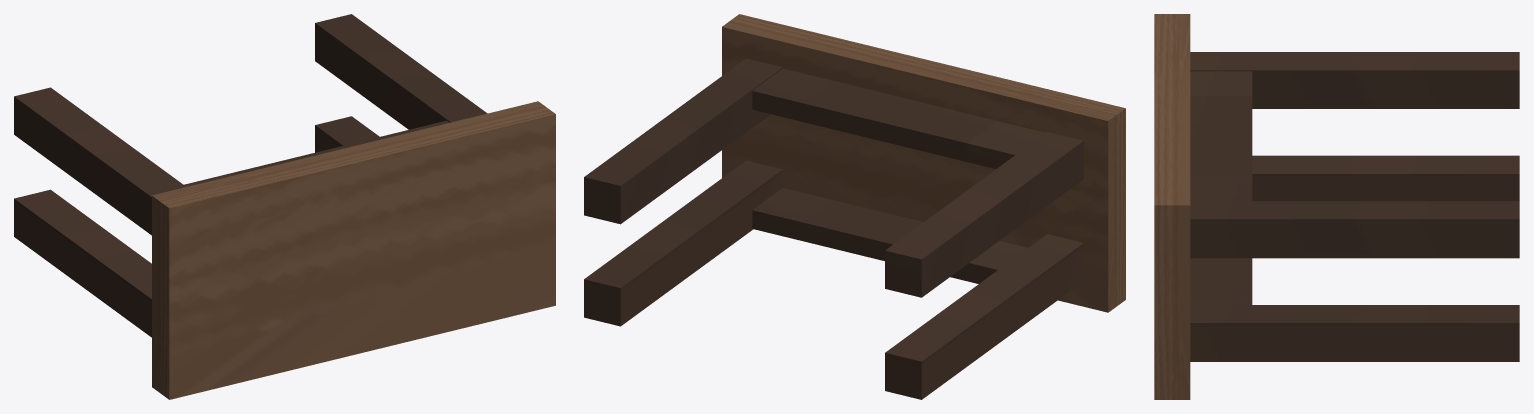
The model's file is pz_table_tables_high_01_long_dark.obj.
The picture shows the model from 3 angles, left to right: view 1: azimuth 30°, elevation 25°; view 2: azimuth 150°, elevation 25°; view 3: azimuth 270°, elevation 25°; orthographic projection.
Bounding box in the file's own units: 0.95 × 0.45 × 0.7655.
1 material, 1 textured.
